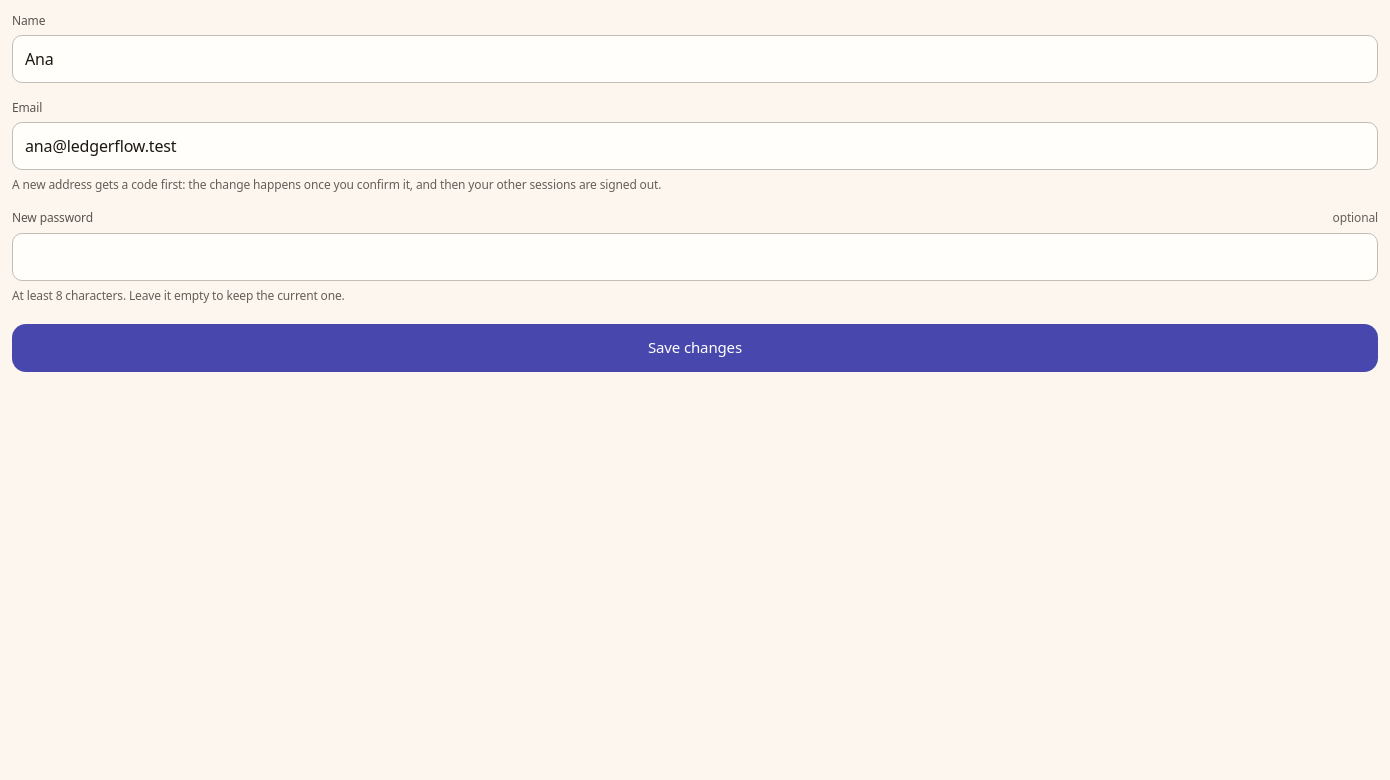
ProfileView › says a wrong current password under its field, after one request only
Replace the text in the field labelled "Email" with "new@ledgerflow.test" at (695, 146), box [12,122,1378,170]
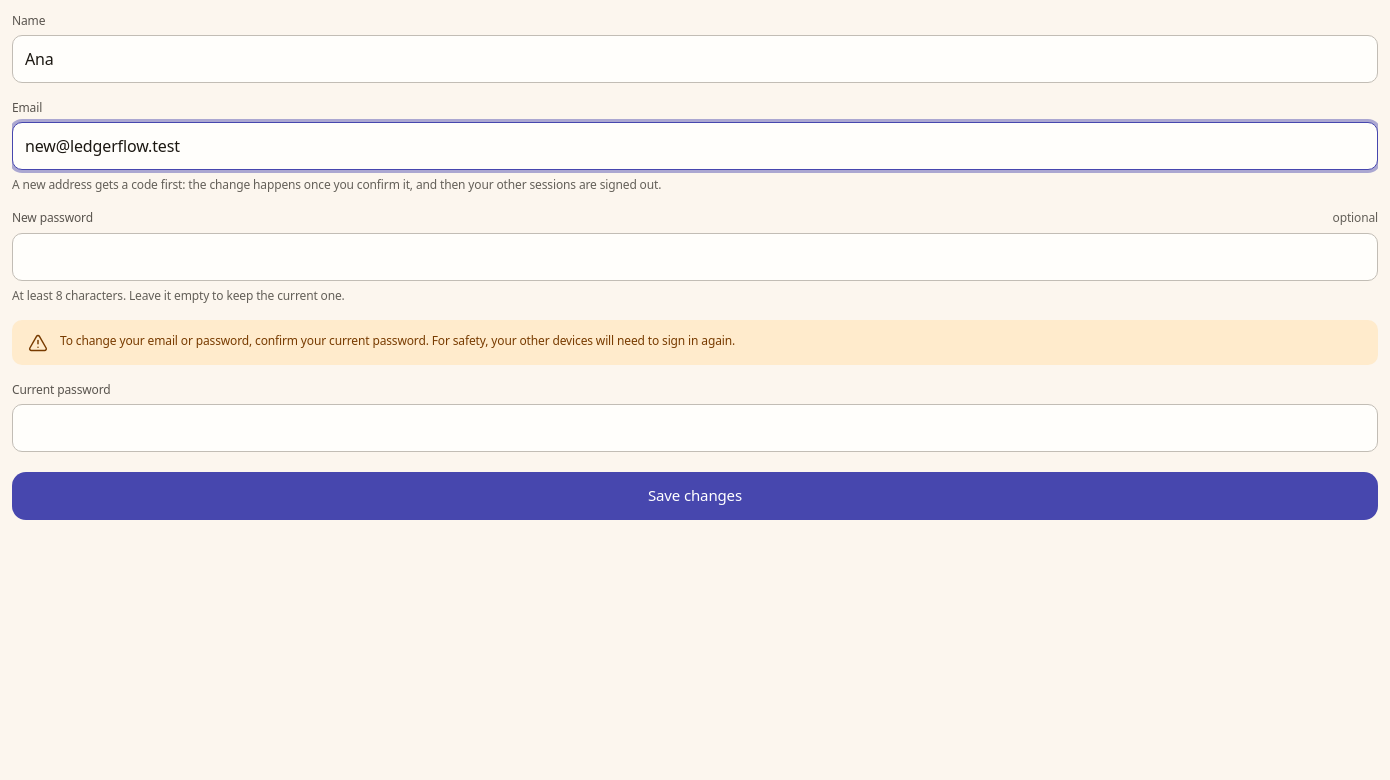
Type "OldPass!2026" into the password field labelled "Current password" at (695, 428), box [12,404,1378,452]
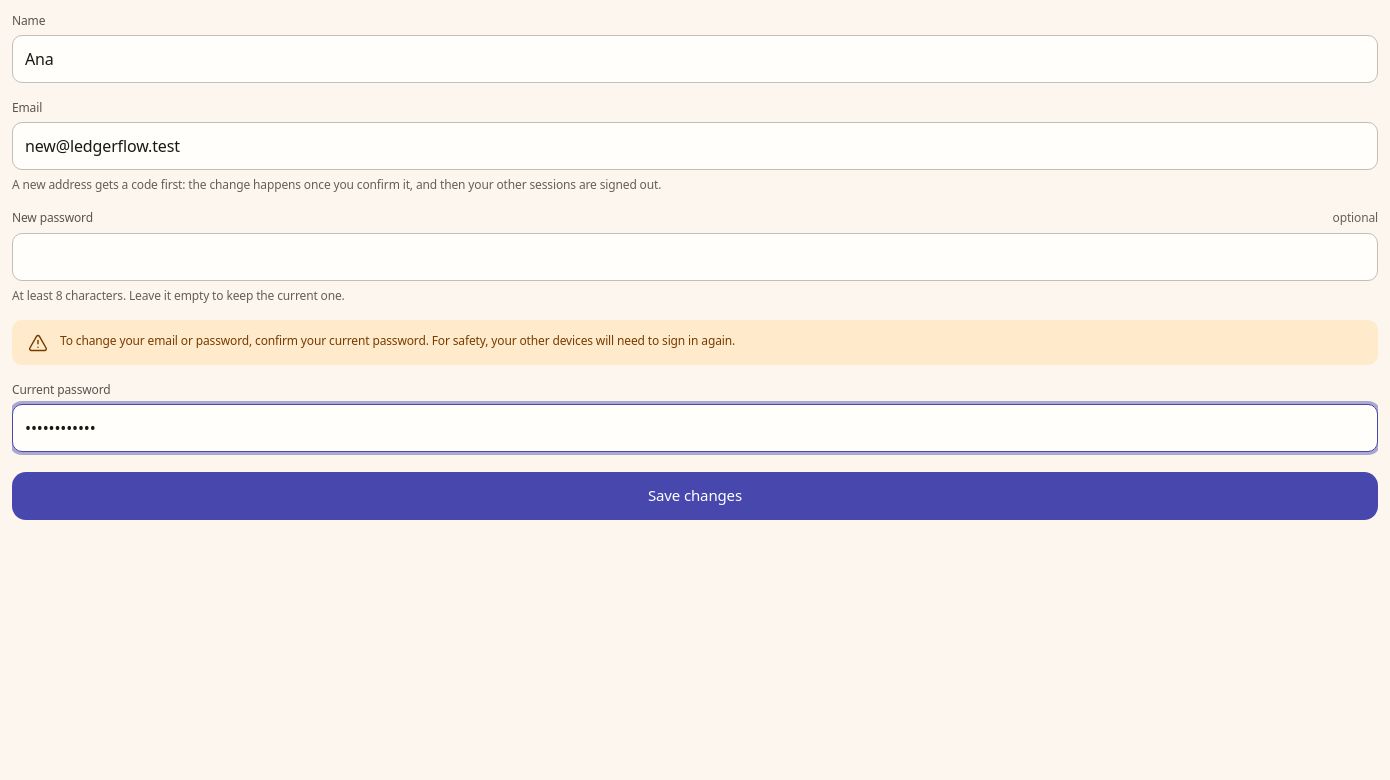
Click the button named "Save changes" at (695, 496), box [12,472,1378,520]
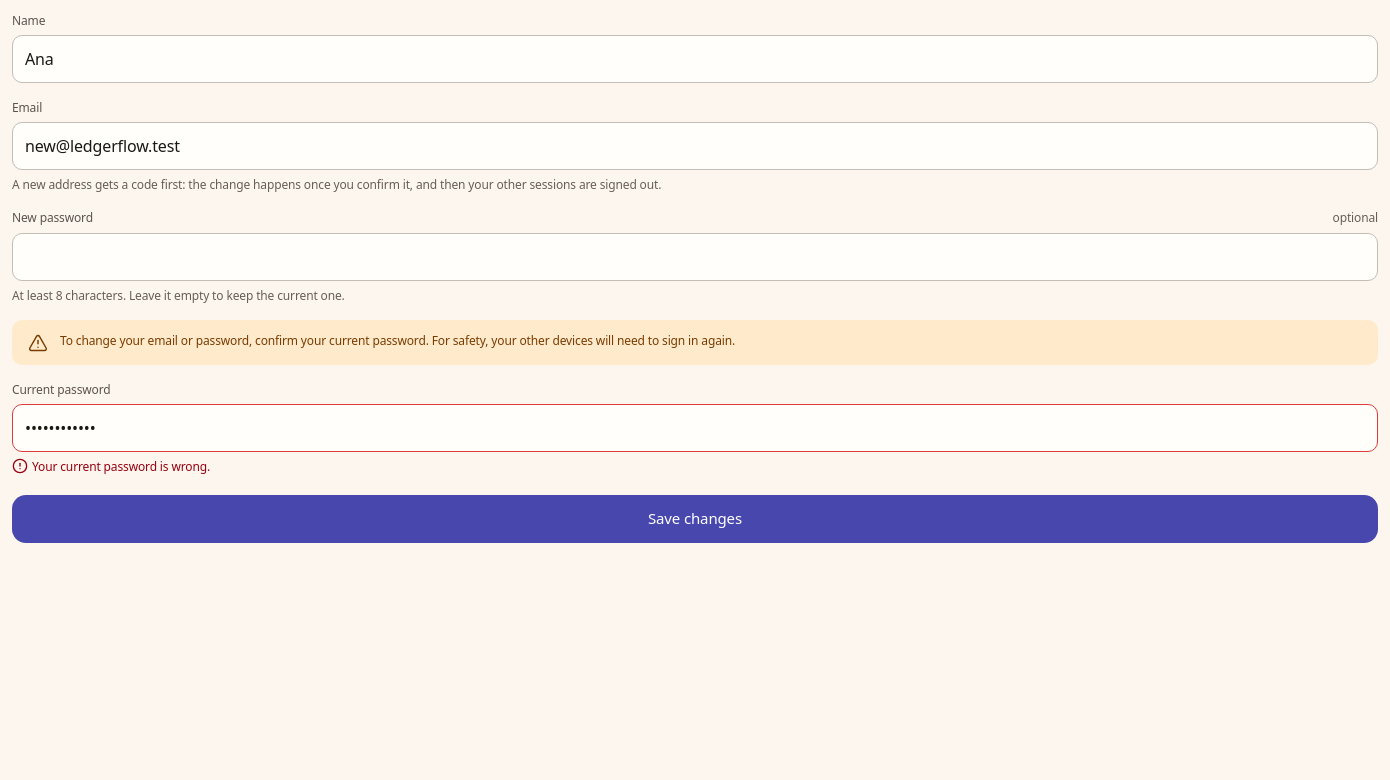
Expected: the text "Your current password is wrong." is shown, [12,458,210,475]
